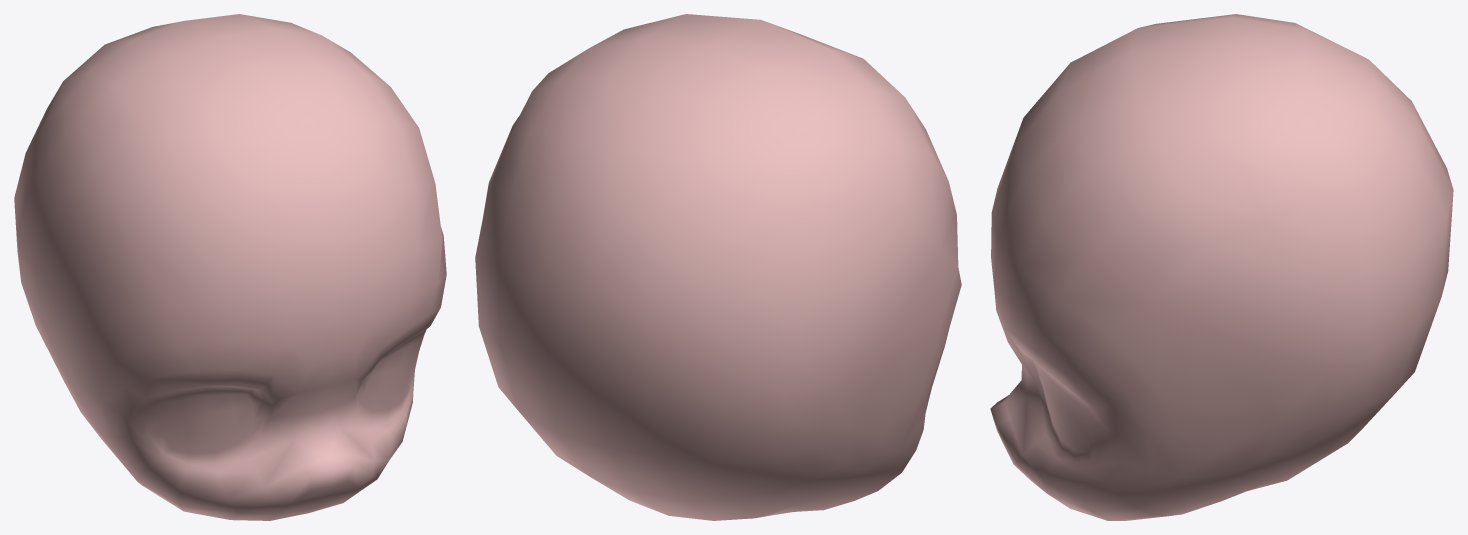
The model's file is Nendoroid_A_Head01.fbx.
The picture shows the model from 3 angles, left to right: view 1: azimuth 30°, elevation 25°; view 2: azimuth 150°, elevation 25°; view 3: azimuth 270°, elevation 25°; orthographic projection. The views are drawn at different scales.
Visible parts, largest first — view 1: Nendoroid_A_Head01; view 2: Nendoroid_A_Head01; view 3: Nendoroid_A_Head01.
Part boxes in pixels (x1,y1,x2,y2): Nendoroid_A_Head01: (14, 14, 446, 520); Nendoroid_A_Head01: (475, 14, 961, 520); Nendoroid_A_Head01: (990, 14, 1453, 520).
Bounding box in the file's own units: 1.87 × 2.17 × 2.02.
